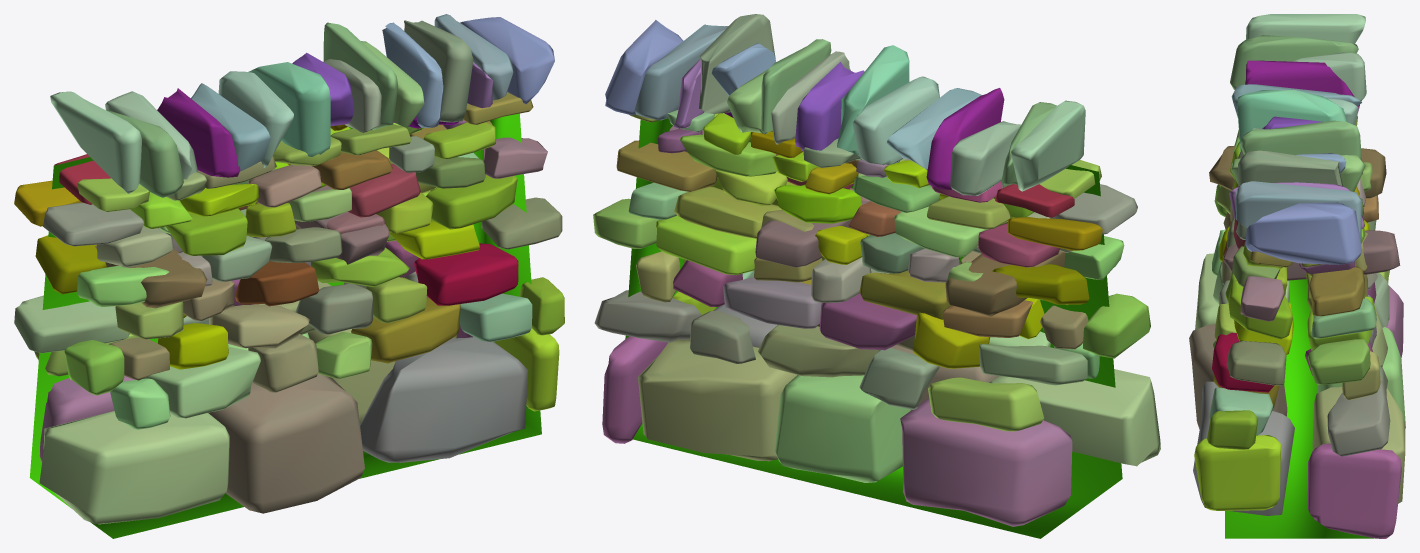
File: SM_Wall_G.glb
The picture shows the model from 3 angles, left to right: view 1: azimuth 30°, elevation 25°; view 2: azimuth 150°, elevation 25°; view 3: azimuth 270°, elevation 25°; orthographic projection. The views are drawn at different scales.
Visible parts, largest first — view 1: SM_Wall_G; view 2: SM_Wall_G; view 3: SM_Wall_G.
Boxes of the visible parts, box(x1,y1,x2,y2) form: SM_Wall_G: box(14, 14, 564, 538); SM_Wall_G: box(593, 14, 1160, 538); SM_Wall_G: box(1189, 14, 1405, 538).
Bounding box in the file's own units: 2.32 × 1.75 × 0.9595.
